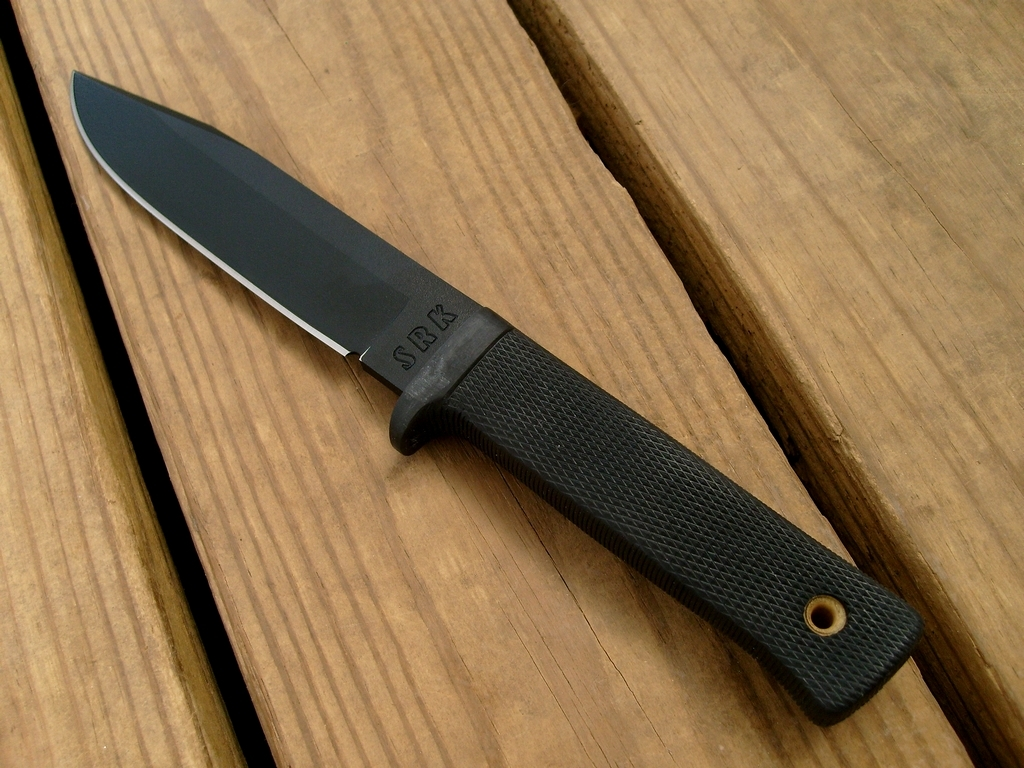knife: (70, 68, 922, 727)
